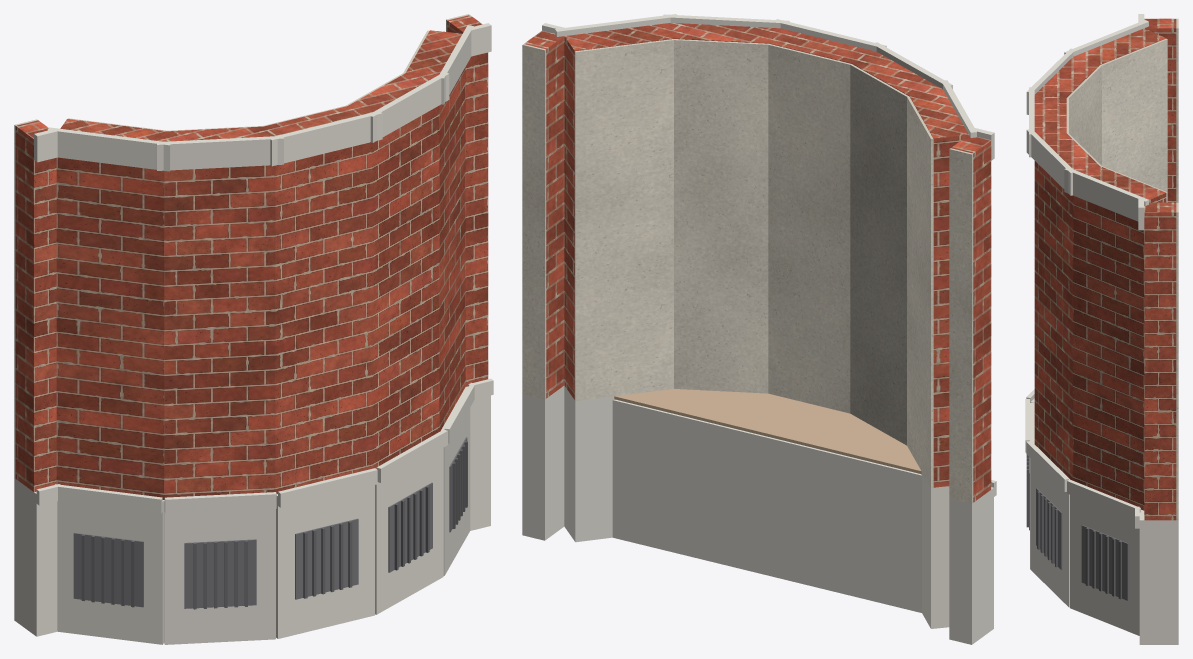
Rendered from bay_a0.glb.
3 renders of one model, left to right at view 1: azimuth 30°, elevation 25°; view 2: azimuth 150°, elevation 25°; view 3: azimuth 270°, elevation 25°, orthographic. The views are drawn at different scales.
Parts seen in each view (by area): view 1: bay_a0_brick, bay_a0_lime, bay_a0_dark, bay_a0_iron, bay_a0_plaster; view 2: bay_a0_plaster, bay_a0_lime, bay_a0_brick, bay_a0_floor; view 3: bay_a0_brick, bay_a0_lime, bay_a0_plaster, bay_a0_iron, bay_a0_dark.
Part boxes in pixels (x1,y1,x2,y2): bay_a0_brick: (15, 15, 488, 499); bay_a0_lime: (14, 23, 493, 644); bay_a0_dark: (73, 437, 467, 608); bay_a0_iron: (81, 441, 467, 609); bay_a0_plaster: (14, 14, 469, 478); bay_a0_plaster: (522, 39, 973, 503); bay_a0_lime: (522, 14, 996, 644); bay_a0_brick: (524, 23, 991, 502); bay_a0_floor: (614, 389, 921, 474); bay_a0_brick: (1034, 18, 1176, 520); bay_a0_lime: (1025, 14, 1178, 644); bay_a0_plaster: (1066, 18, 1178, 520); bay_a0_iron: (1026, 455, 1121, 599); bay_a0_dark: (1029, 457, 1128, 600).
Bounding box in the file's own units: 4 × 4.22 × 1.34.
Materials: 6 (2 with a texture image).
